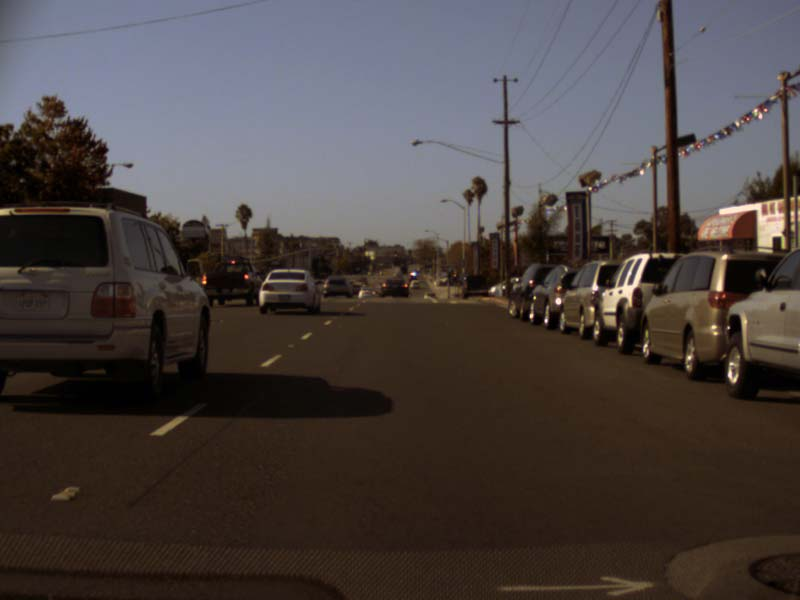Red: (394, 253, 397, 257)
